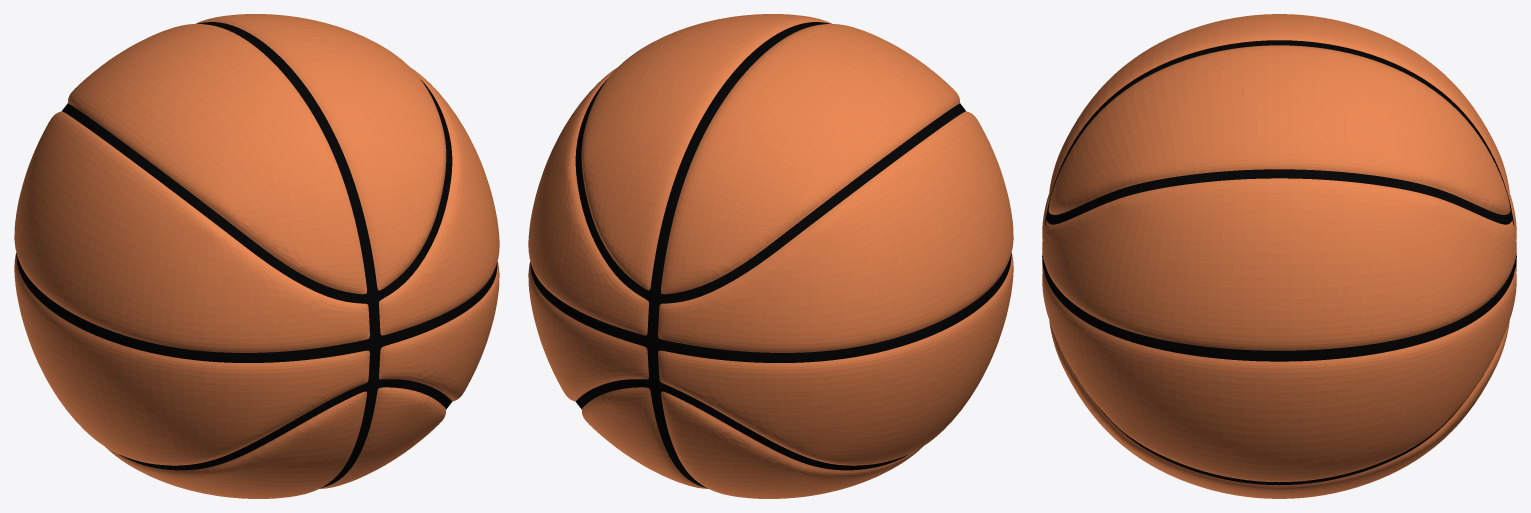
Rendered from Basketball.fbx.
3 views of the same model, side by side, from view 1: azimuth 30°, elevation 25°; view 2: azimuth 150°, elevation 25°; view 3: azimuth 270°, elevation 25° (orthographic).
Visible parts, largest first — view 1: Basketball; view 2: Basketball; view 3: Basketball.
Boxes of the visible parts, left/top/right/bottom form: Basketball: left=14, top=14, right=499, bottom=498; Basketball: left=528, top=14, right=1013, bottom=498; Basketball: left=1042, top=14, right=1516, bottom=498.
Bounding box in the file's own units: 165 × 165 × 165.
